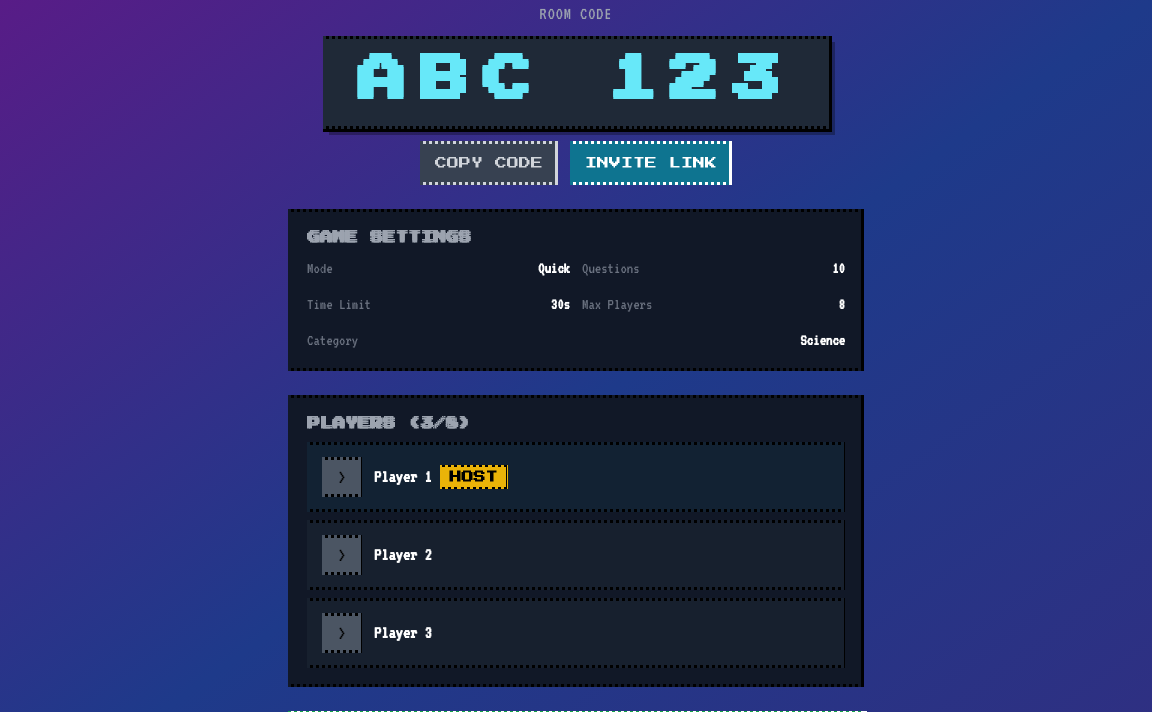
Scenario: LobbyView › copy and share buttons › should show error state when clipboard fails
This screenshot has width=1152, height=712.
Fire click, then flush the rejected promise's microtask chain
Click the button "COPY CODE". click: click(489, 163)
box: left=420, top=141, right=558, bottom=185
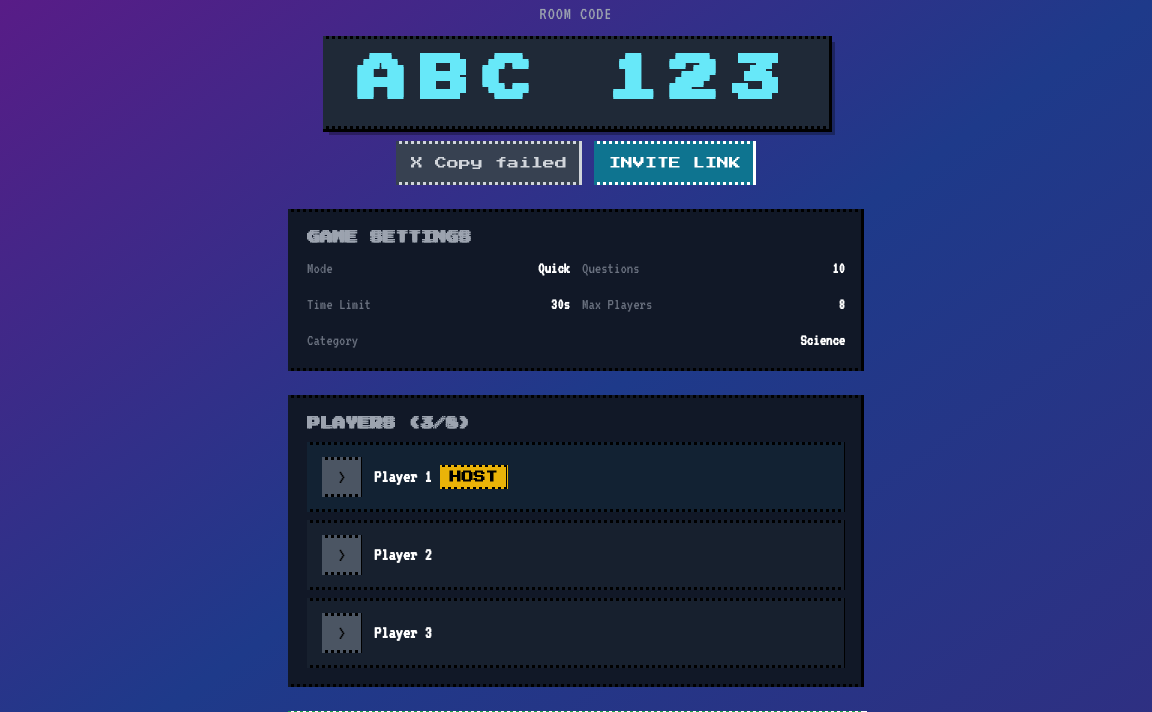
Now the button "X Copy failed" is shown, box left=396, top=141, right=582, bottom=185
